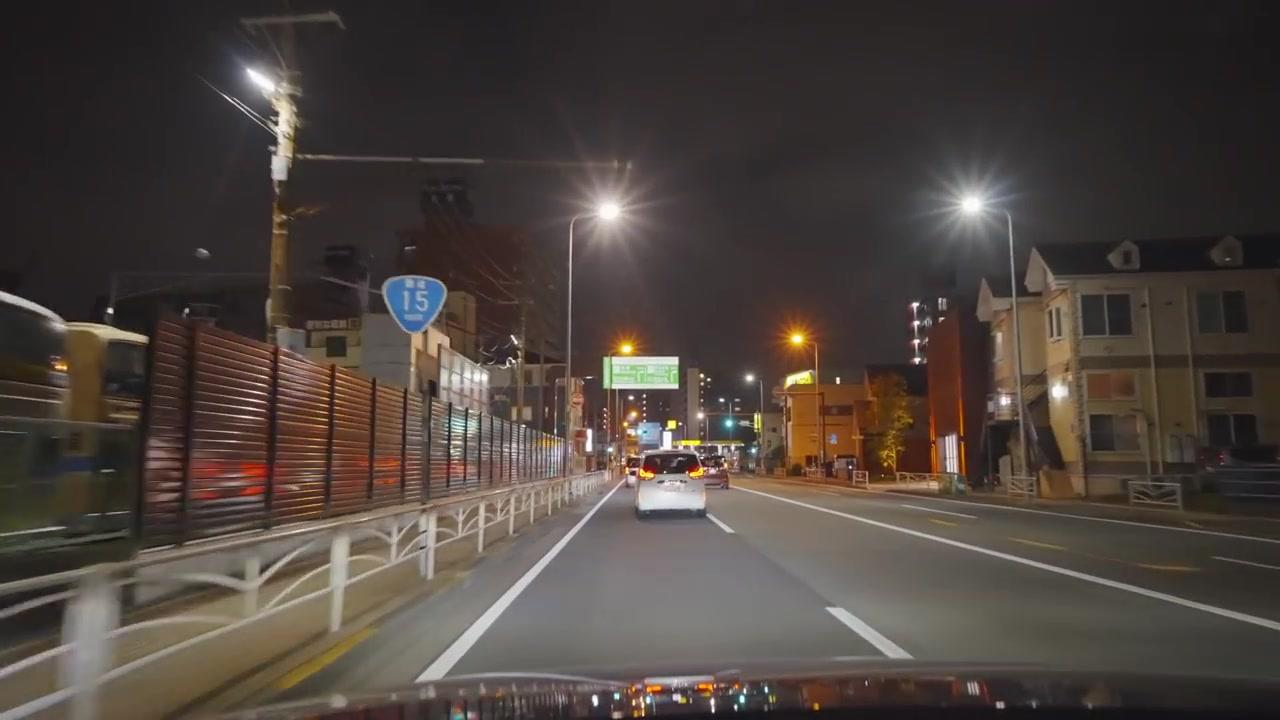bus: (634, 449, 707, 521)
car: (633, 448, 708, 521), (701, 459, 730, 490)
train: (0, 289, 149, 587)
